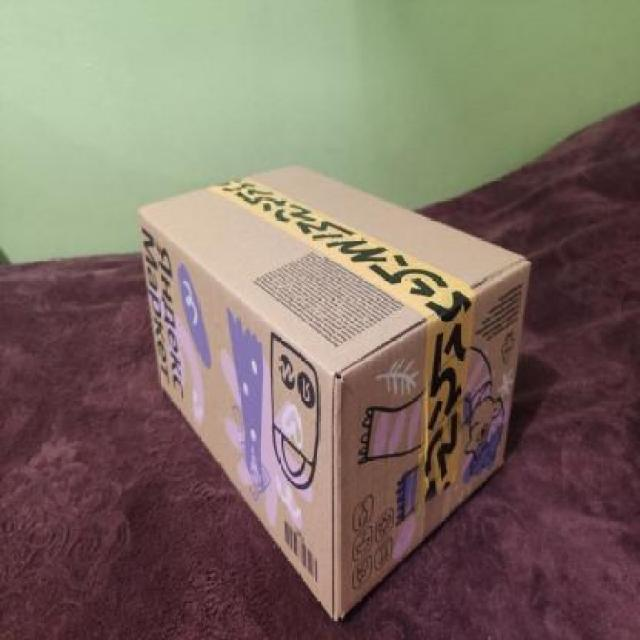box: (128, 156, 532, 620)
